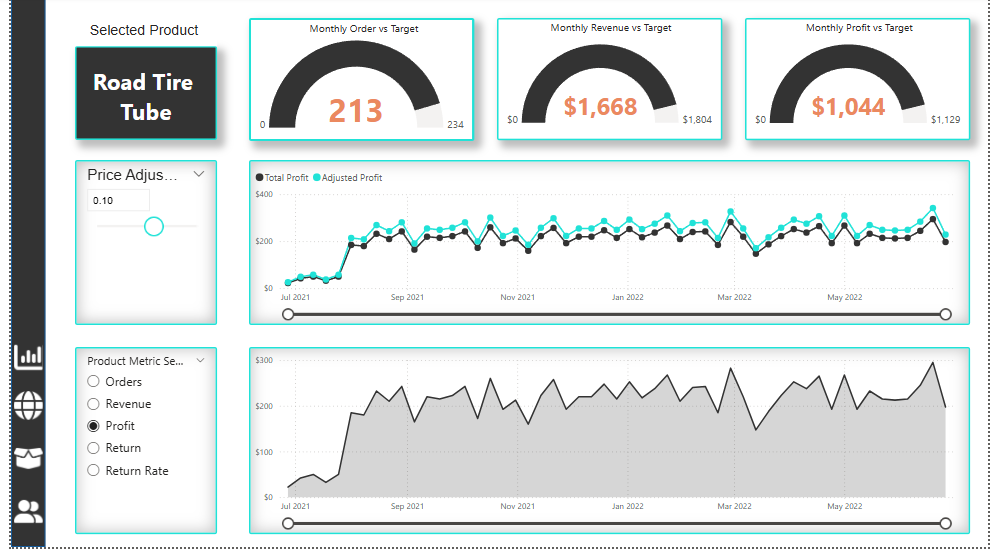

This screenshot's page, from the dashboard's own definition file:
{"tool":"powerbi","page":{"name":"Product Detail","canvas":[1280,720],"ordinal":2},"visuals":[{"type":"shape","box":[0,0,45,720],"z":0},{"type":"actionButton","box":[0,449.6,45.6,45.6],"z":0,"group":"g1"},{"type":"gauge","title":"Monthly Order vs Target","fields":{"Y":["Measure table.Total Orders"],"MaxValue":["Measure table.Order Target"]},"box":[311.6,27.5,295,161],"z":1000},{"type":"actionButton","box":[0,581.8,45.6,45.6],"z":1000,"group":"g1"},{"type":"gauge","title":"Monthly  Revenue vs Target","fields":{"Y":["Measure table.Total Revenue"],"MaxValue":["Measure table.Revenue Target"]},"box":[636.2,27.5,294.5,159.7],"z":2000},{"type":"actionButton","box":[0,650.9,45.6,45.6],"z":2000,"group":"g1"},{"type":"gauge","title":"Monthly Profit vs Target","fields":{"Y":["Measure table.Total Profit"],"MaxValue":["Measure table.Profit Target"]},"box":[960.9,27.5,295,160],"z":3000},{"type":"actionButton","box":[0,512.8,45.6,45.6],"z":3000,"group":"g1"},{"type":"lineChart","title":"Profit Trending","fields":{"Category":["Calender Lookup.Date Hierarchy.Start of Year","Calender Lookup.Date Hierarchy.Date","Calender Lookup.Date Hierarchy.Start of Month","Calender Lookup.Date Hierarchy.Start of Week"],"Y":["Measure table.Total Profit","Measure table.Adjusted Profit"]},"box":[311.6,213.4,943.9,216],"z":4000},{"type":"areaChart","title":"Return Trending","fields":{"Y":["Measure table.Total Profit"],"Category":["Calender Lookup.Date Hierarchy.Start of Year","Calender Lookup.Date Hierarchy.Date","Calender Lookup.Date Hierarchy.Start of Month","Calender Lookup.Date Hierarchy.Start of Week","Calender Lookup.Date Hierarchy.Year"]},"box":[311.6,458.2,943.9,244.8],"z":5000},{"type":"card","fields":{"Values":["Min(Product Lookup.ProductName)"]},"box":[83.8,64.1,185.9,123.1],"z":6000},{"type":"textbox","box":[83.8,27.5,185.9,36.7],"z":7000},{"type":"group","id":"g1","title":"Navigation Buttons","box":[0,449.6,45.6,246.9],"z":8000},{"type":"slicer","fields":{"Values":["Price Adjustments(%).Price Adjustments(%)"]},"box":[83.8,213.4,185.9,216],"z":9000},{"type":"slicer","fields":{"Values":["Product Metric Selection.Product Metric Selection"]},"box":[83.8,458.2,185.9,244.8],"z":10000}]}

Visuals, with their boxes on the page's 1280x720 design canvas (x1, y1, x2, y2). These are canvas units, not pixel positions in the 990x549 screenshot, which may show the page scaled, cropped or inside an application window:
shape: Rect(0, 0, 45, 720)
actionButton: Rect(0, 450, 46, 495)
"Monthly Order vs Target" gauge: Rect(312, 28, 607, 188)
actionButton: Rect(0, 582, 46, 627)
"Monthly  Revenue vs Target" gauge: Rect(636, 28, 931, 187)
actionButton: Rect(0, 651, 46, 696)
"Monthly Profit vs Target" gauge: Rect(961, 28, 1256, 188)
actionButton: Rect(0, 513, 46, 558)
"Profit Trending" lineChart: Rect(312, 213, 1256, 429)
"Return Trending" areaChart: Rect(312, 458, 1256, 703)
card - Min(Product Lookup.ProductName): Rect(84, 64, 270, 187)
textbox: Rect(84, 28, 270, 64)
"Navigation Buttons" group: Rect(0, 450, 46, 696)
slicer - Price Adjustments(%).Price Adjustments(%): Rect(84, 213, 270, 429)
slicer - Product Metric Selection.Product Metric Selection: Rect(84, 458, 270, 703)
